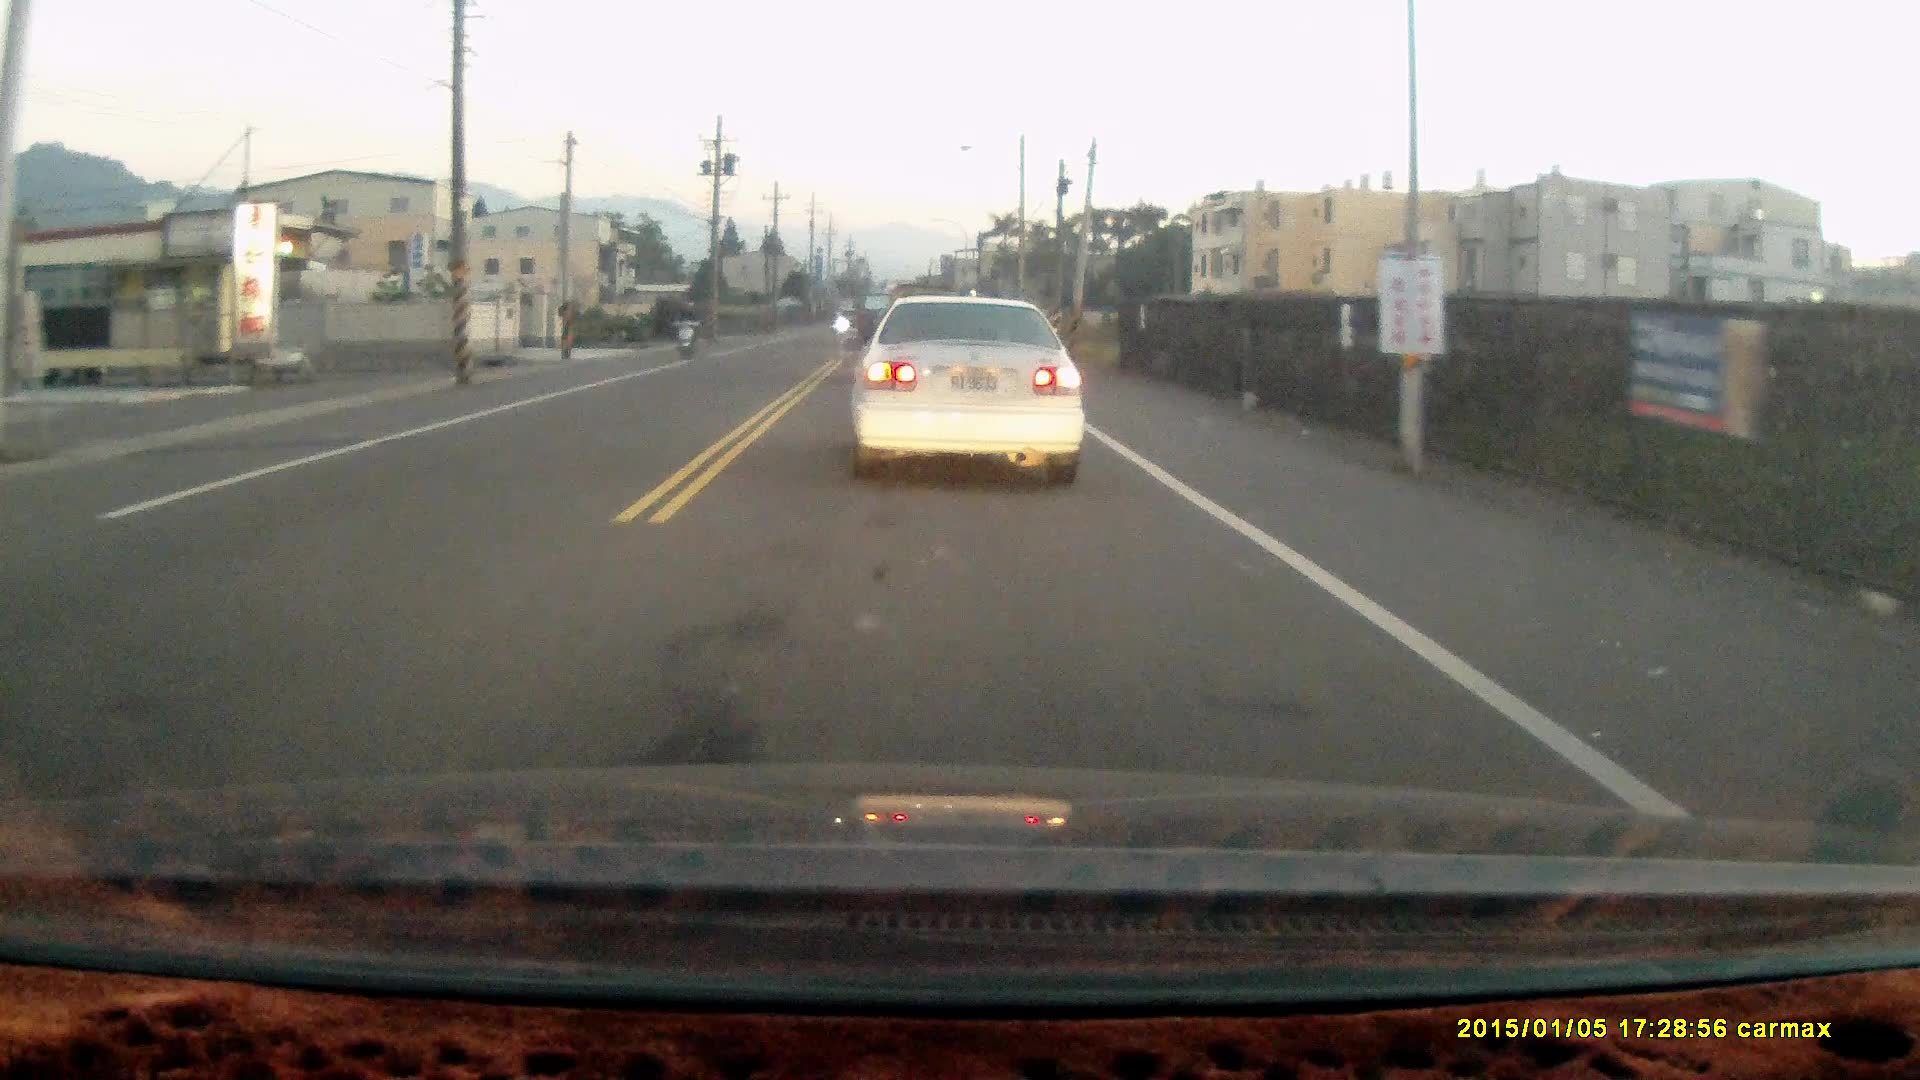rider: (672, 294, 700, 355)
vehicle: (849, 290, 1090, 490)
